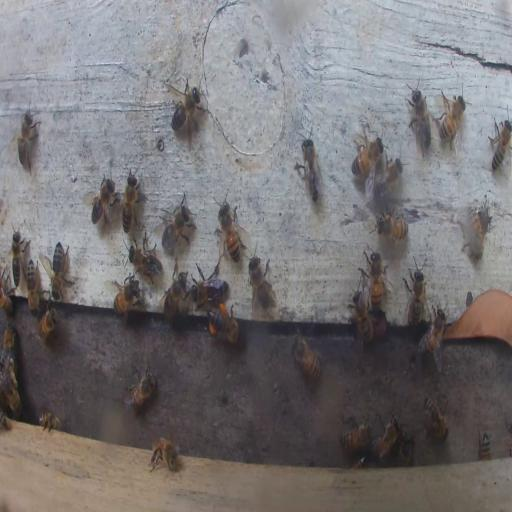bee: (168, 78, 206, 140), (159, 190, 197, 251), (407, 78, 433, 155), (16, 100, 41, 172), (217, 194, 242, 264), (417, 305, 446, 364), (86, 174, 118, 227), (298, 135, 322, 205), (206, 303, 242, 348), (439, 91, 466, 150), (404, 256, 426, 328), (122, 364, 157, 408), (291, 332, 323, 380), (247, 253, 273, 312), (120, 170, 144, 233), (128, 234, 162, 278), (350, 135, 384, 178), (350, 290, 375, 347), (48, 240, 71, 301), (190, 265, 224, 306), (466, 206, 490, 261), (370, 416, 400, 460), (424, 392, 450, 442), (373, 154, 403, 197), (489, 115, 512, 171), (164, 269, 189, 319), (113, 275, 141, 318), (149, 435, 180, 473), (339, 422, 372, 455), (10, 226, 28, 285), (2, 358, 20, 416), (369, 253, 383, 312), (377, 213, 408, 238), (0, 267, 16, 313), (26, 258, 39, 313), (1, 324, 16, 370), (38, 305, 58, 338), (37, 411, 64, 431), (396, 436, 414, 464), (479, 430, 492, 462)
